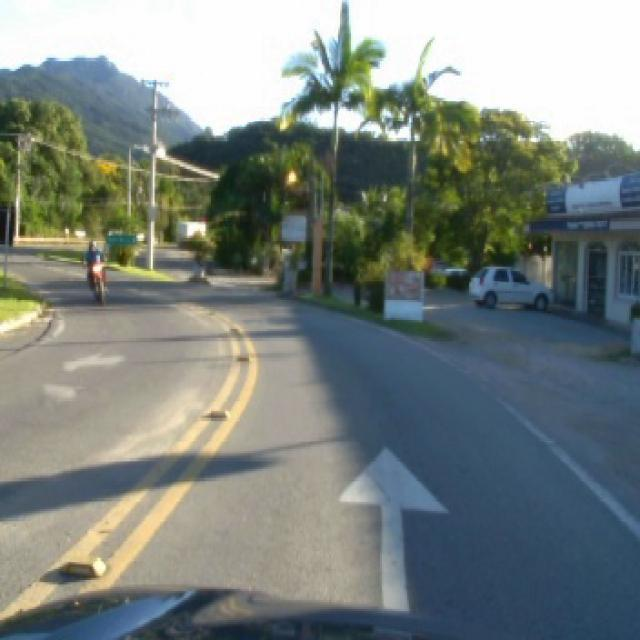Poth-hole: (58, 549, 107, 578), (209, 406, 229, 416), (234, 351, 251, 360), (227, 324, 238, 332)
